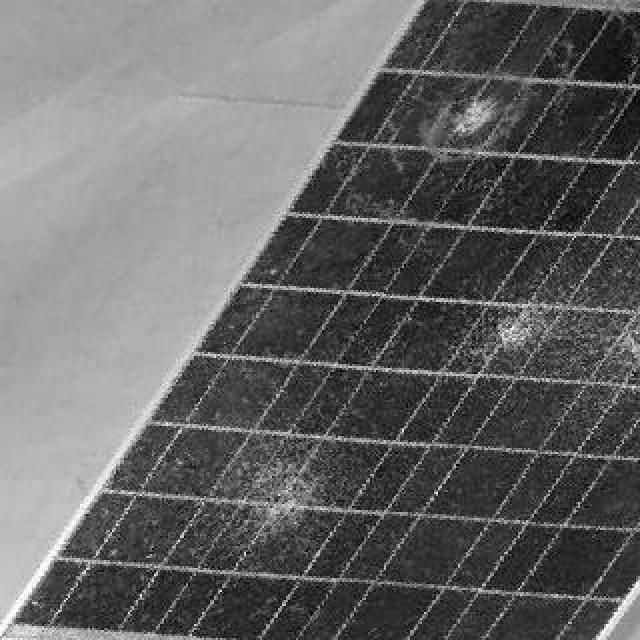Physical-damage: (217, 435, 323, 550), (483, 298, 639, 376), (428, 57, 532, 162)
